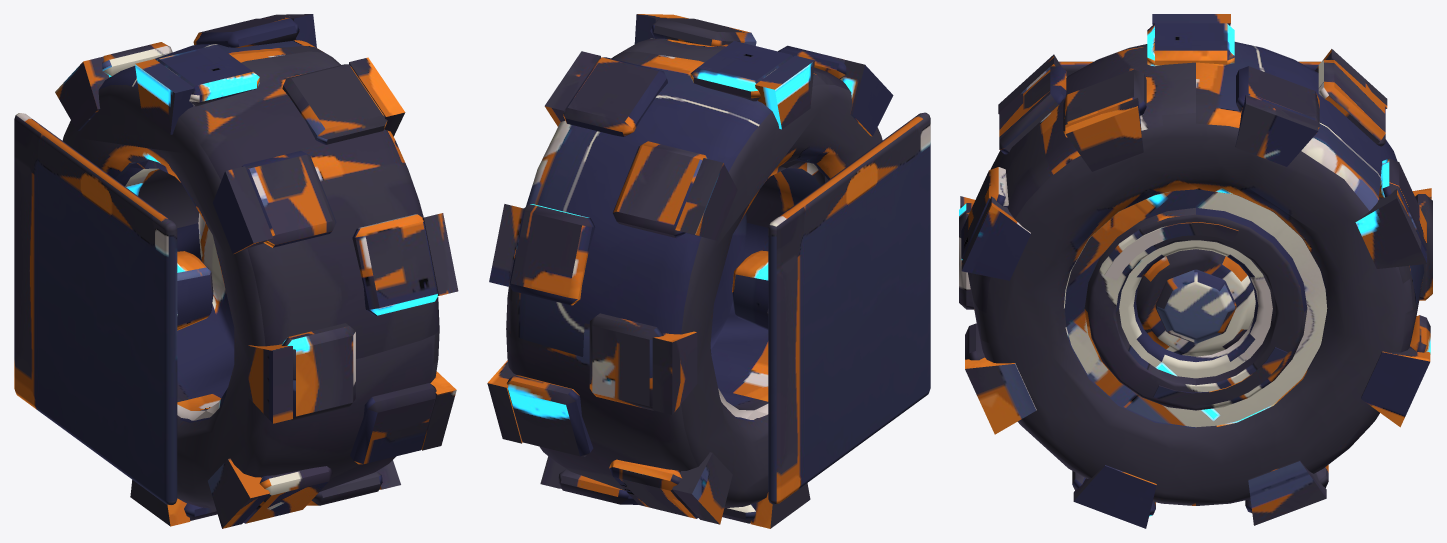
Rendered from R4M_WheelM_Side_Offroad_LOD1.fbx.
3 views of the same model, side by side, from view 1: azimuth 30°, elevation 25°; view 2: azimuth 150°, elevation 25°; view 3: azimuth 270°, elevation 25° (orthographic). The views are drawn at different scales.
Visible parts, largest first — view 1: R4M_WheelM_Side_Offroad_LOD1; view 2: R4M_WheelM_Side_Offroad_LOD1; view 3: R4M_WheelM_Side_Offroad_LOD1.
Part boxes in pixels (x1,y1,x2,y2): R4M_WheelM_Side_Offroad_LOD1: [14, 14, 458, 528]; R4M_WheelM_Side_Offroad_LOD1: [487, 14, 930, 528]; R4M_WheelM_Side_Offroad_LOD1: [959, 14, 1432, 528].
Bounding box in the file's own units: 0.451 × 0.76 × 0.76.
